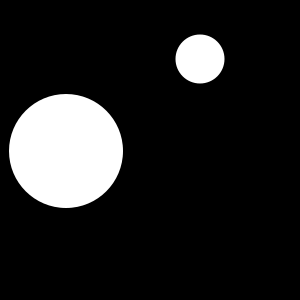rectangle: (9, 94, 123, 208), (176, 34, 224, 84)
